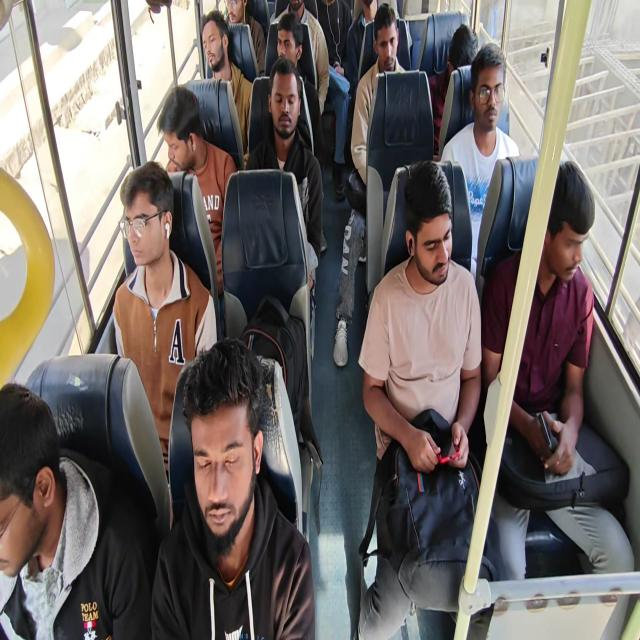person: (154, 363, 290, 603), (0, 370, 83, 640), (116, 158, 182, 312), (464, 26, 528, 133), (534, 138, 590, 254), (410, 185, 458, 296), (156, 62, 200, 152), (180, 13, 220, 95), (263, 91, 303, 171), (437, 33, 487, 95), (318, 0, 351, 61), (275, 15, 304, 77), (372, 4, 394, 65), (282, 0, 309, 42), (218, 0, 249, 36), (356, 0, 376, 25)
